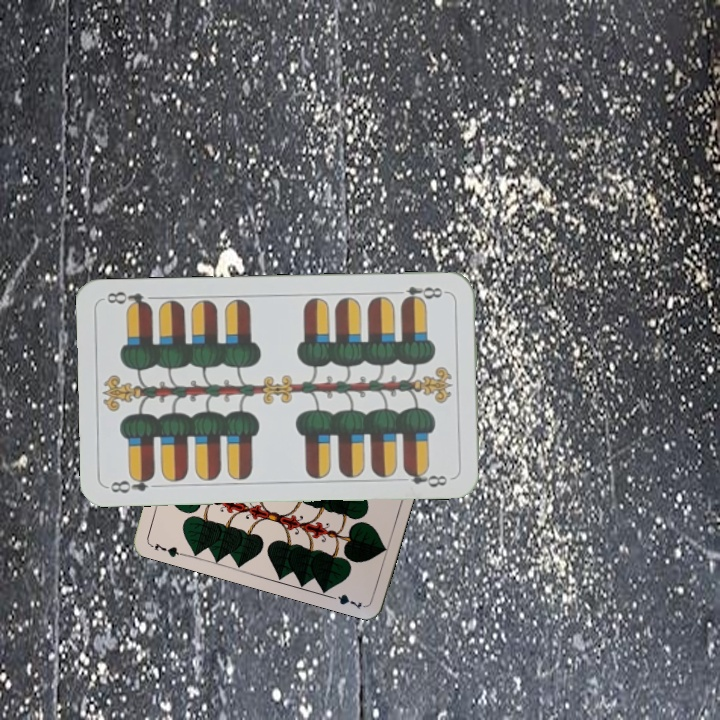E8: (390, 282, 449, 306), (107, 470, 157, 496)
G7: (146, 538, 185, 560)
